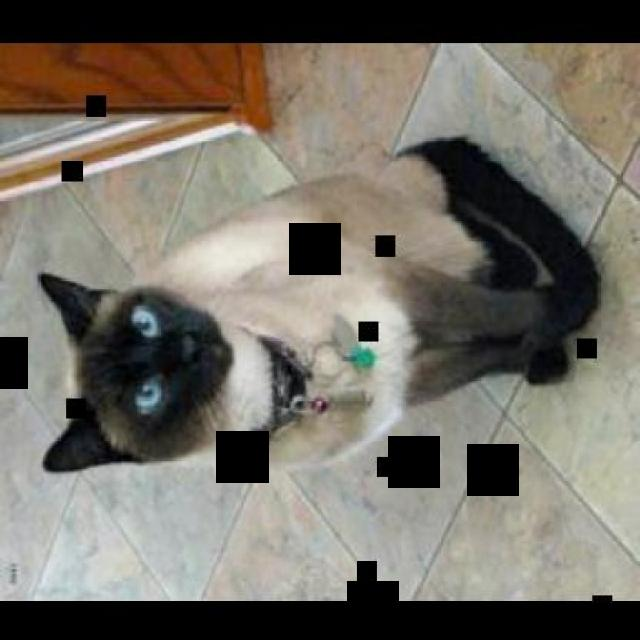unauthorized: (35, 134, 600, 474)
